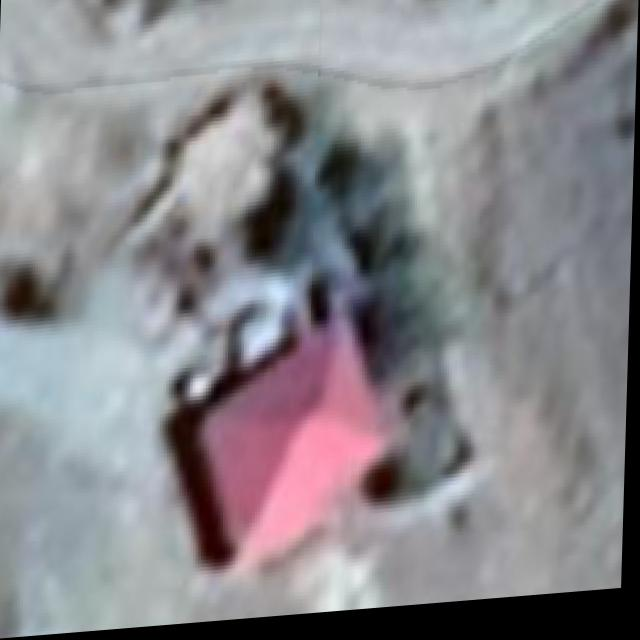Batiment: (201, 327, 388, 575)
